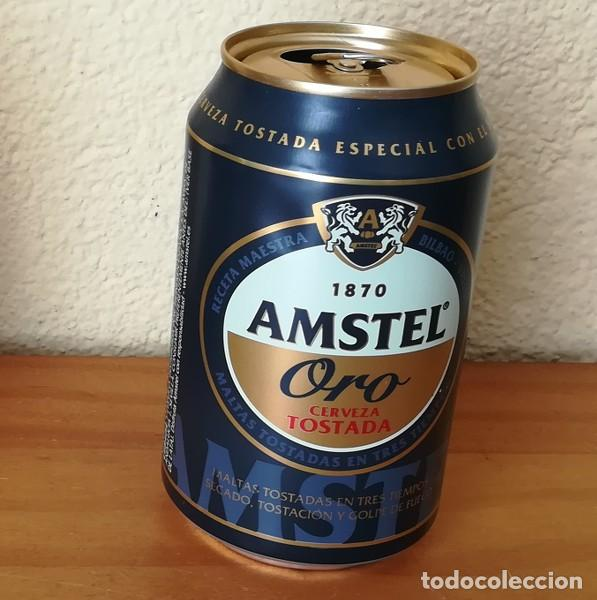beer can: (162, 21, 495, 571)
